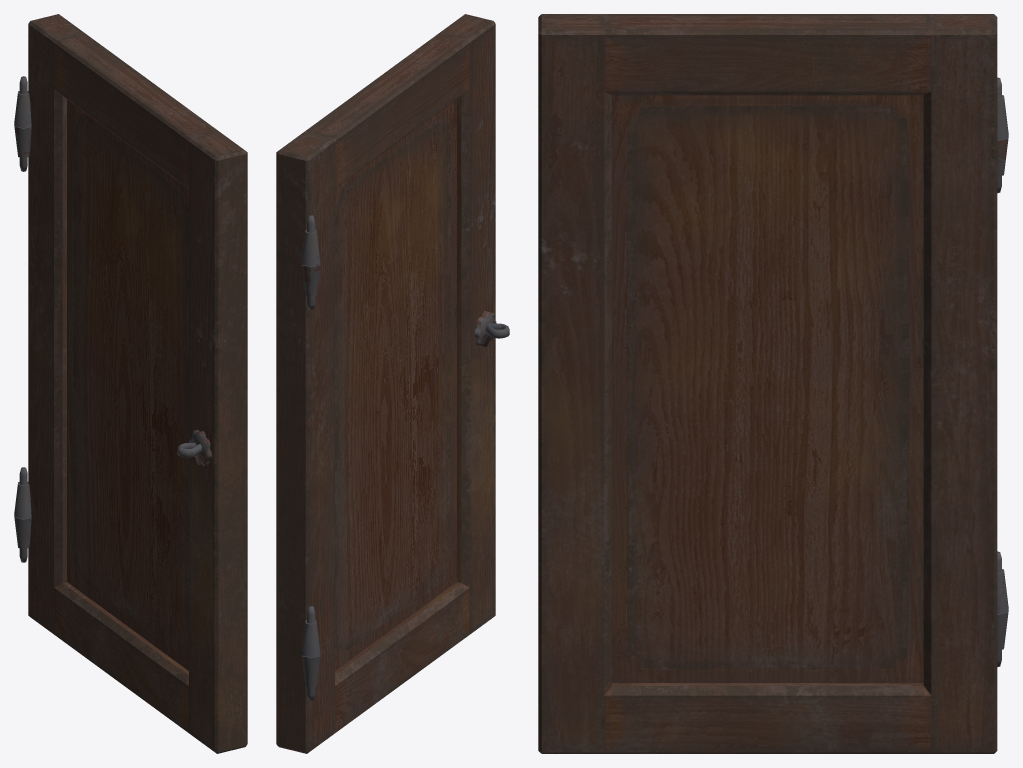
File: SM_JWD_Door01c.fbx
The picture shows the model from 3 angles, left to right: view 1: azimuth 30°, elevation 25°; view 2: azimuth 150°, elevation 25°; view 3: azimuth 270°, elevation 25°; orthographic projection. The views are drawn at different scales.
Parts seen in each view (by area): view 1: SM_JWD_Door01c; view 2: SM_JWD_Door01c; view 3: SM_JWD_Door01c.
Part boxes in pixels (<box>): SM_JWD_Door01c: <box>14,14,247,753</box>; SM_JWD_Door01c: <box>276,14,509,753</box>; SM_JWD_Door01c: <box>538,14,1008,753</box>.
Size of the model in its own units: 8.75 by 51.23 by 87.
1 material, 1 textured.
